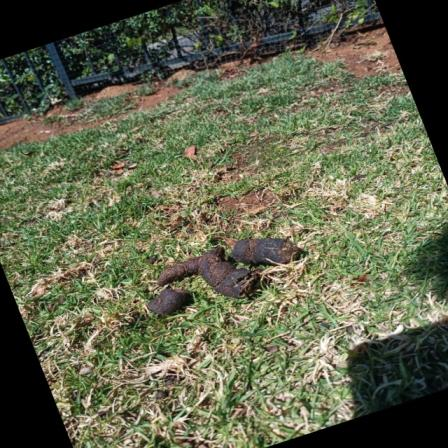dog-poop: (152, 234, 300, 314)
